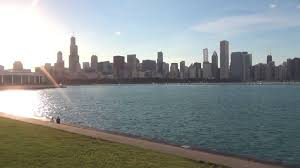willis: (67, 25, 82, 74)
